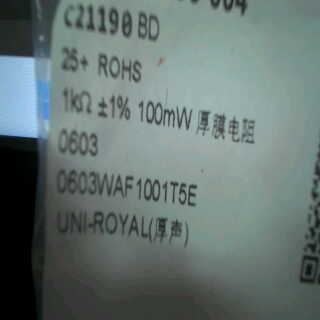1kR: (56, 84, 95, 118)
